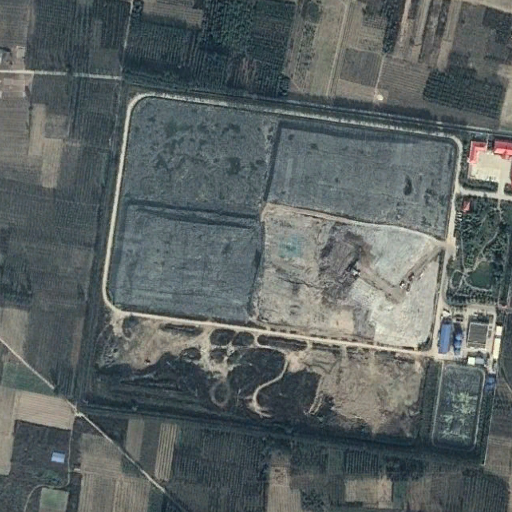lf: (104, 94, 458, 353)
